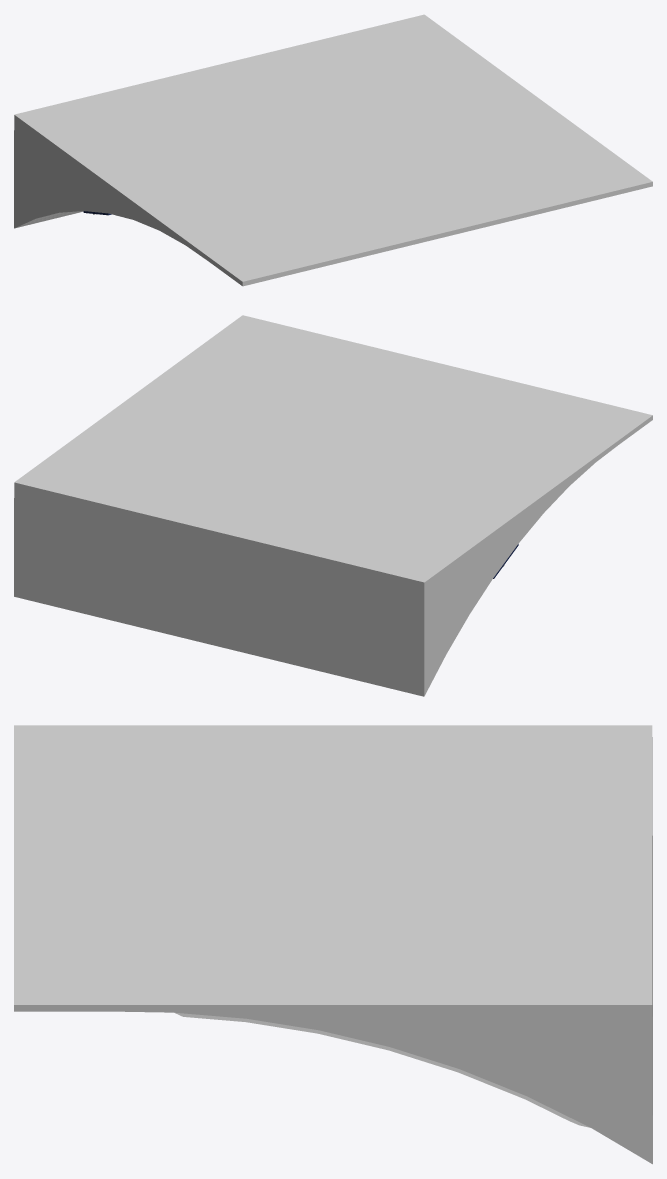
Rendered from orelsan_mur6.obj.
3 views of the same model, one above another, from view 1: azimuth 30°, elevation 25°; view 2: azimuth 150°, elevation 25°; view 3: azimuth 270°, elevation 25° (orthographic). The views are drawn at different scales.
Parts seen in each view (by area): view 1: orelsan_mur.obj; view 2: orelsan_mur.obj; view 3: orelsan_mur.obj.
Boxes of the visible parts, <box> form: orelsan_mur.obj: <box>14,14,652,286</box>; orelsan_mur.obj: <box>14,315,652,696</box>; orelsan_mur.obj: <box>14,725,652,1164</box>.
Size of the model in its own units: 500 by 133 by 483.
